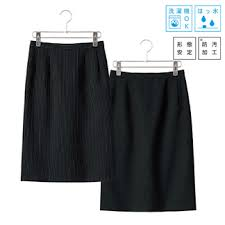F_tailored skirt: (15, 36, 117, 187), (98, 67, 199, 214)
